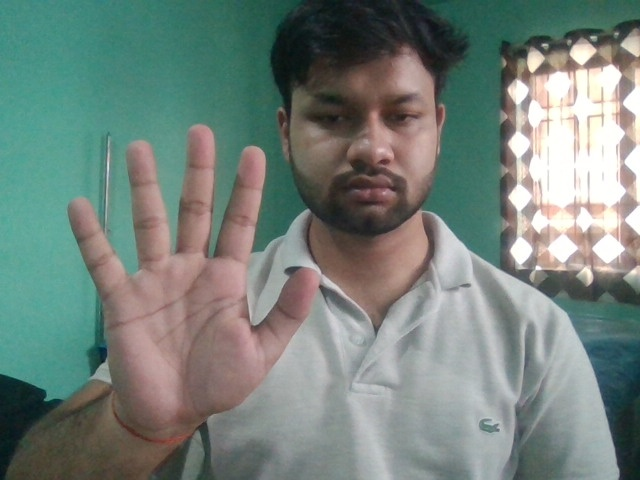Hello: (66, 123, 323, 427)
